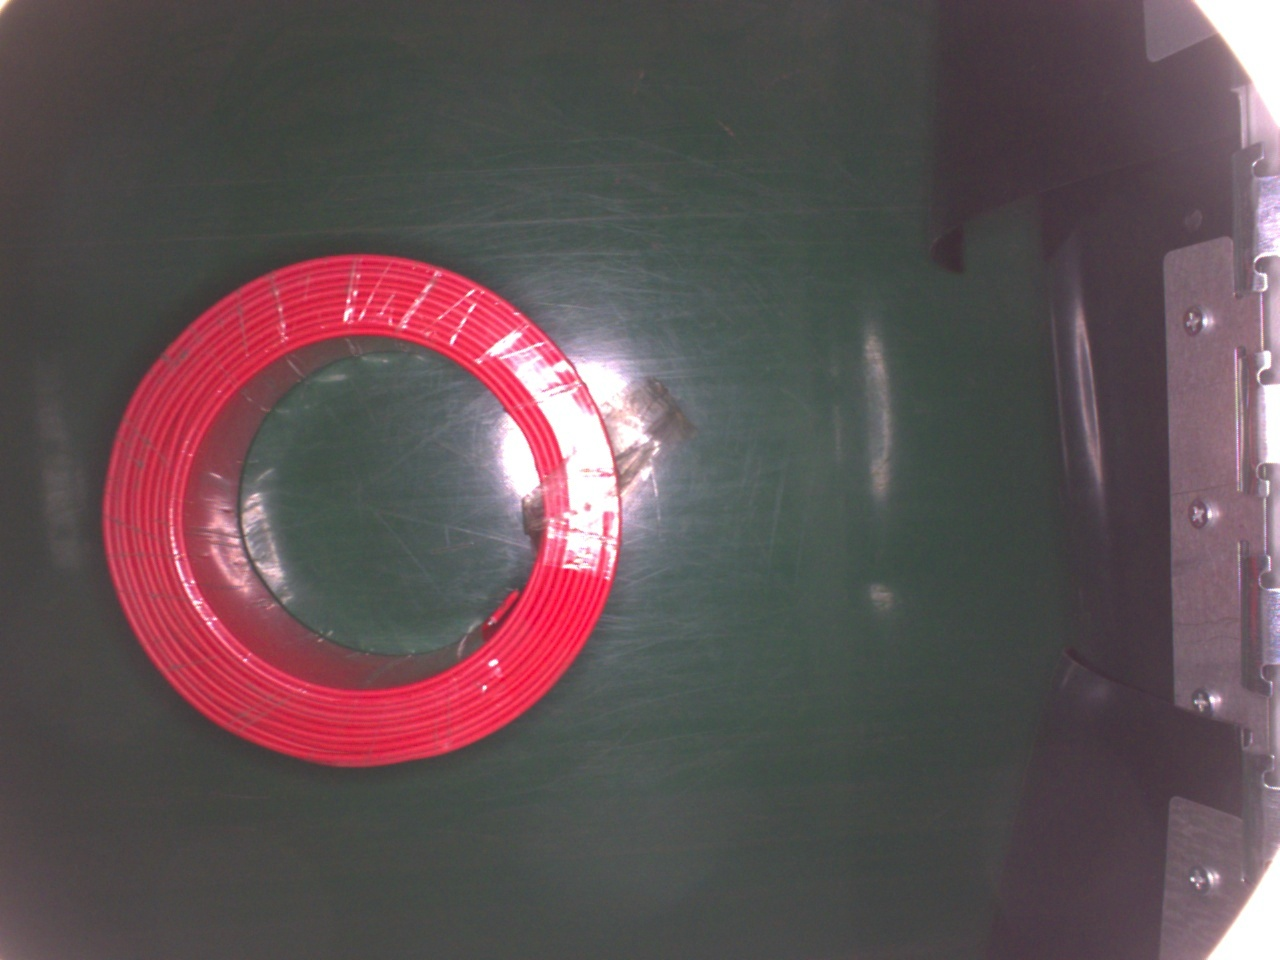red: (96, 251, 626, 774)
